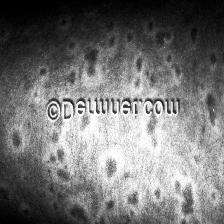Toxin: (66, 16, 202, 88), (172, 176, 195, 224), (104, 153, 118, 180)
